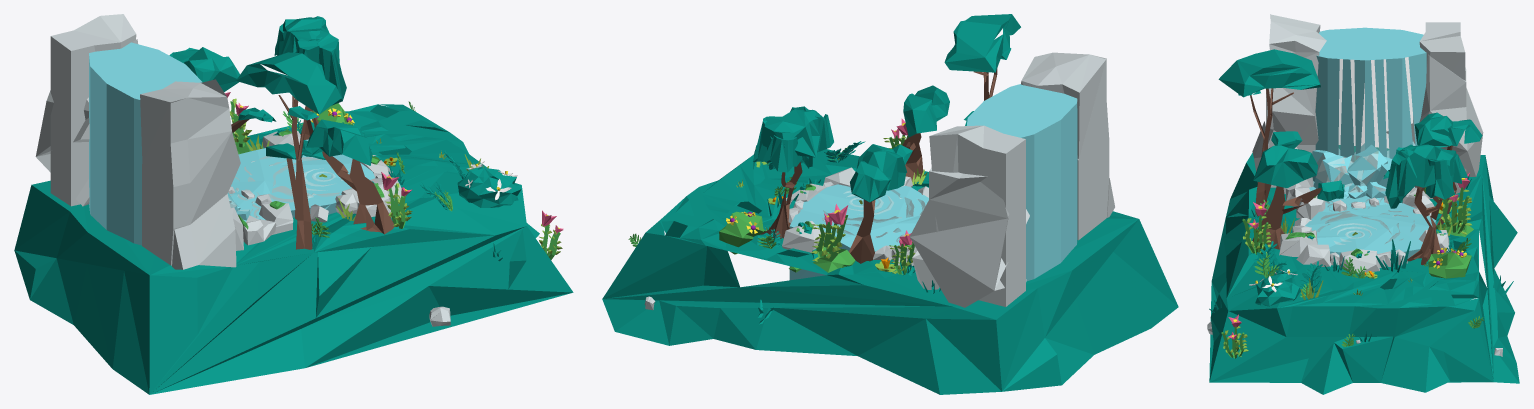
File: waterfall.glb
The picture shows the model from 3 angles, left to right: view 1: azimuth 30°, elevation 25°; view 2: azimuth 150°, elevation 25°; view 3: azimuth 270°, elevation 25°; orthographic projection. The views are drawn at different scales.
Visible parts, largest first — view 1: Node; view 2: Node; view 3: Node.
Part boxes in pixels (x1,y1,x2,y2): Node: (14,14,573,394); Node: (602,14,1178,394); Node: (1207,14,1519,394).
Size of the model in its own units: 2.93 by 1.7 by 2.06.
